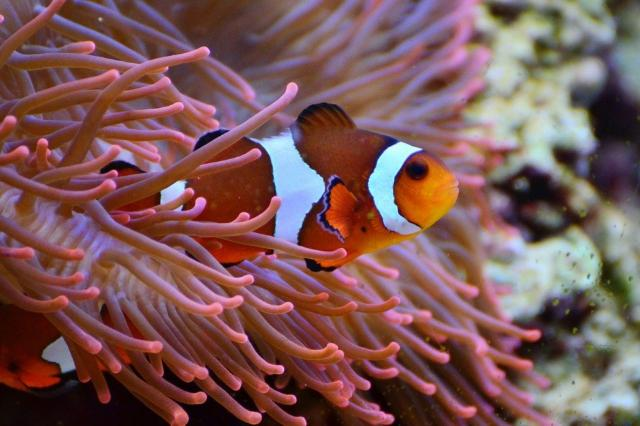Mulut: (413, 164, 473, 212)
Sirip Dada: (306, 166, 368, 252)
Sirip Punggung: (182, 94, 364, 159)
